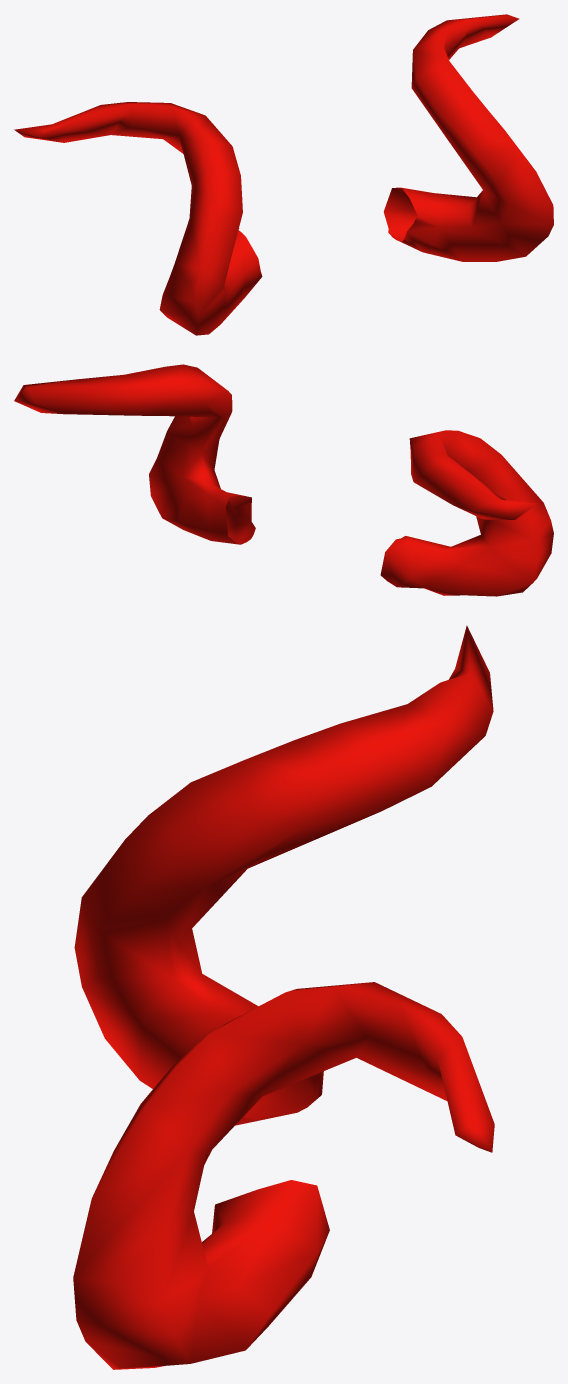
Rendered from seytan_boynuz.fbx.
3 renders of one model, top to bottom at view 1: azimuth 30°, elevation 25°; view 2: azimuth 150°, elevation 25°; view 3: azimuth 270°, elevation 25°, orthographic. The views are drawn at different scales.
Visible parts, largest first — view 1: devil.001; view 2: devil.001; view 3: devil.001.
Part boxes in pixels (x1=…): devil.001: x1=14, y1=14, x2=553, y2=335; devil.001: x1=14, y1=364, x2=553, y2=596; devil.001: x1=73, y1=625, x2=494, y2=1369.
Size of the model in its own units: 314 by 112 by 114.
